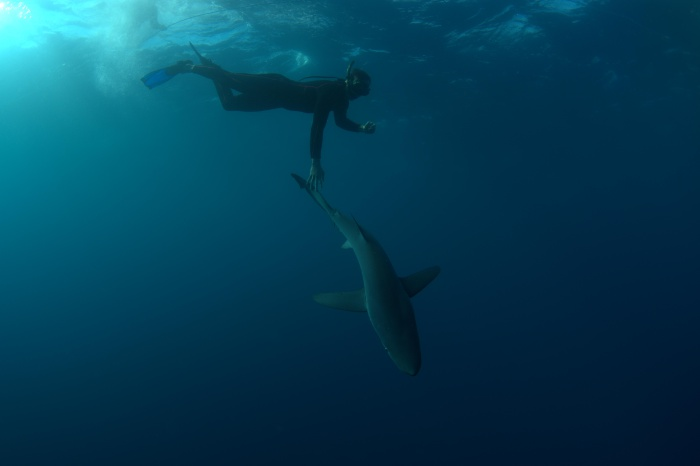Azul: (280, 166, 448, 388)
